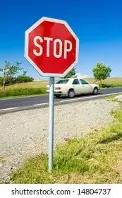Stop: (25, 17, 77, 75)
